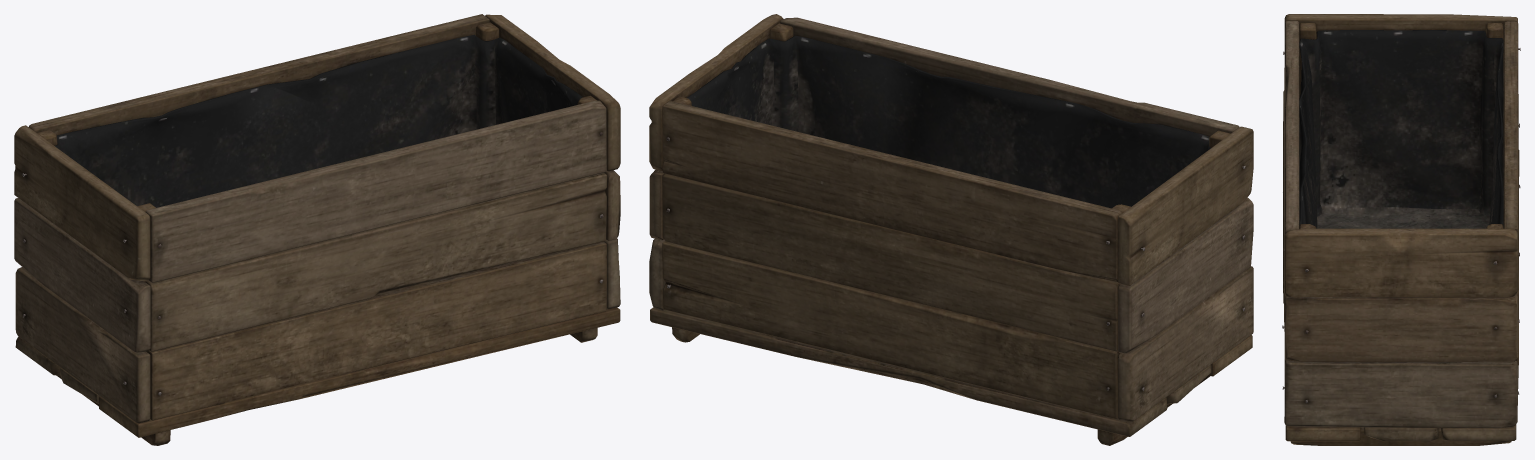
File: planter_box_01.glb
3 renders of one model, left to right at view 1: azimuth 30°, elevation 25°; view 2: azimuth 150°, elevation 25°; view 3: azimuth 270°, elevation 25°, orthographic. The views are drawn at different scales.
Visible parts, largest first — view 1: planter_box_01; view 2: planter_box_01; view 3: planter_box_01.
Boxes of the visible parts, left/top/right/bottom form: planter_box_01: left=14, top=14, right=620, bottom=445; planter_box_01: left=649, top=14, right=1253, bottom=445; planter_box_01: left=1282, top=14, right=1520, bottom=445.
Size of the model in its own units: 0.9126 by 0.425 by 0.4137.
Materials: 1 (1 with a texture image).
